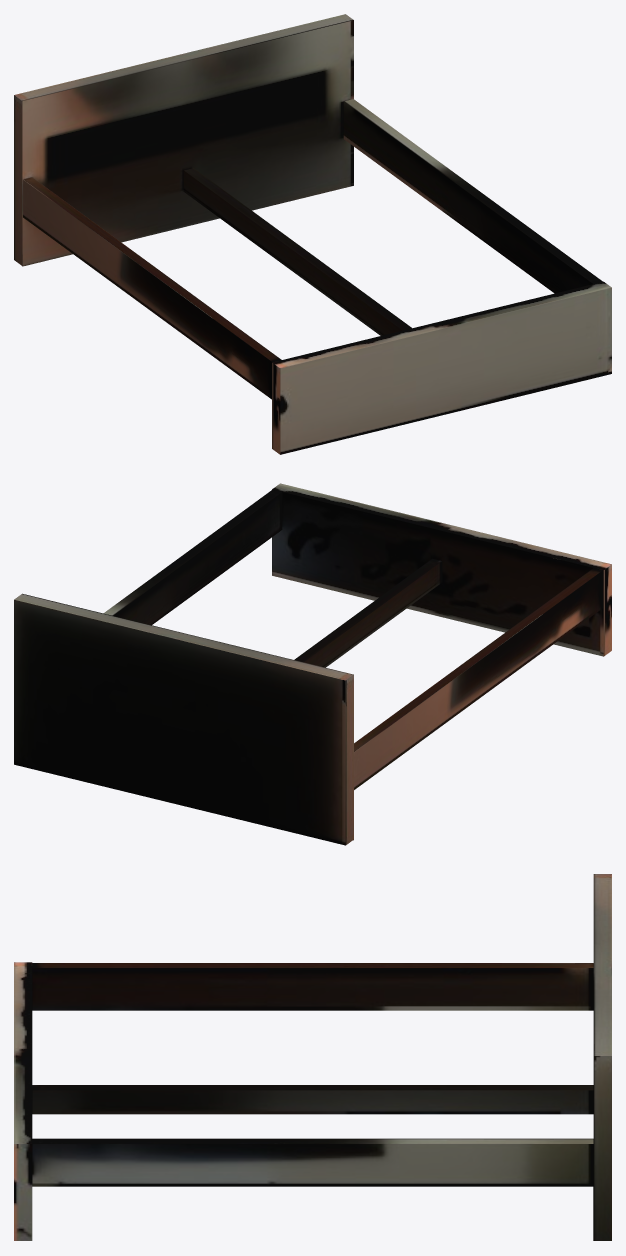
Rendered from bedframe.glb.
3 views of the same model, one above another, from view 1: azimuth 30°, elevation 25°; view 2: azimuth 150°, elevation 25°; view 3: azimuth 270°, elevation 25° (orthographic). The views are drawn at different scales.
Parts seen in each view (by area): view 1: bedframe; view 2: bedframe; view 3: bedframe.
Part boxes in pixels (x1=…): bedframe: x1=14, y1=14, x2=611, y2=454; bedframe: x1=14, y1=483, x2=611, y2=845; bedframe: x1=14, y1=874, x2=611, y2=1240.
Size of the model in its own units: 1.41 by 0.6729 by 1.96.
Materials: 1 (1 with a texture image).
